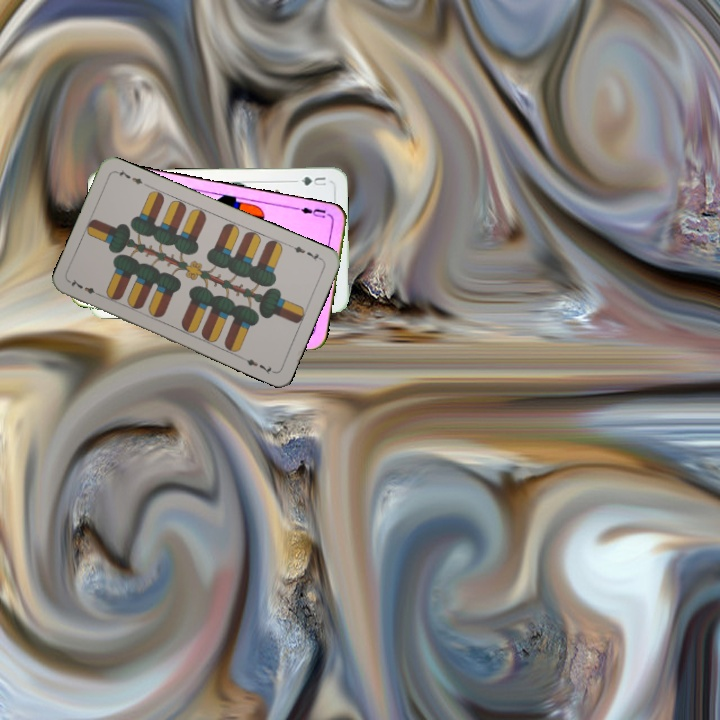E7: (66, 275, 105, 299), (286, 241, 325, 264)
EU: (293, 203, 328, 221)
GU: (297, 173, 329, 188)
